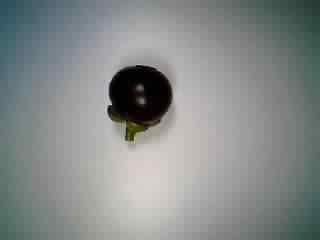mangosteen: (102, 62, 176, 145)
